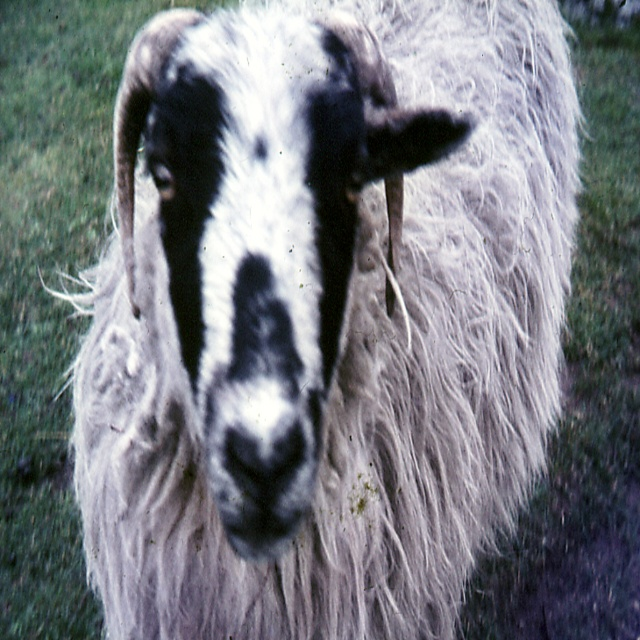Goat: (39, 38, 601, 640)
